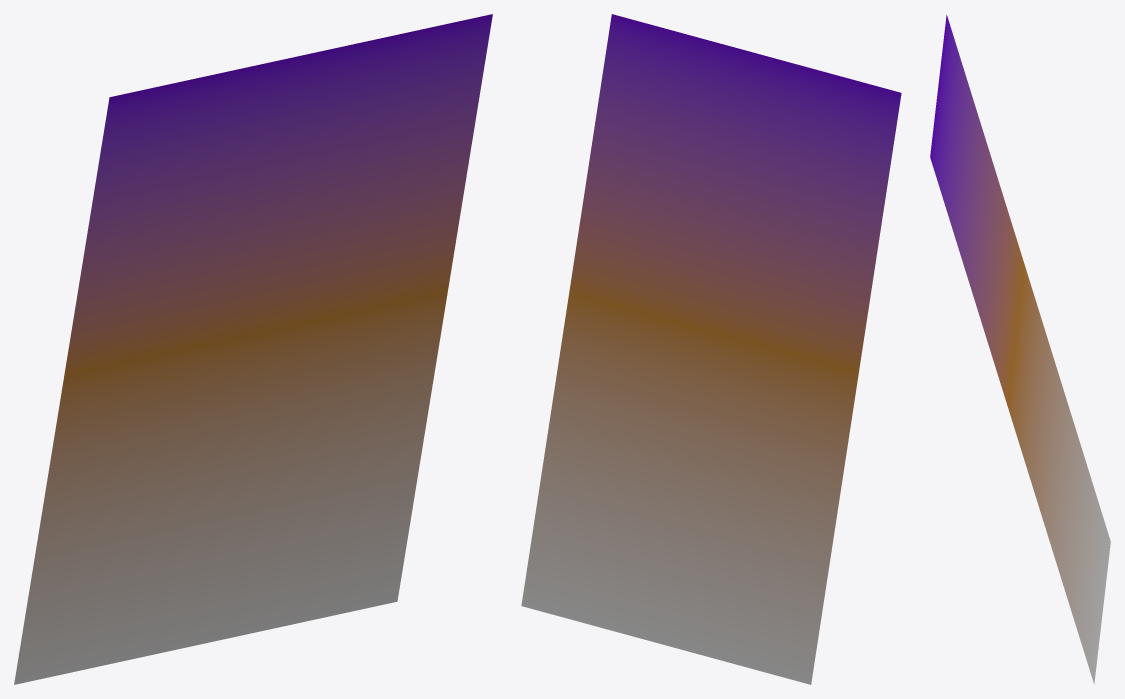
File: Main Camera.fbx
3 views of the same model, side by side, from view 1: azimuth 30°, elevation 25°; view 2: azimuth 150°, elevation 25°; view 3: azimuth 270°, elevation 25° (orthographic). The views are drawn at different scales.
Parts seen in each view (by area): view 1: CameraFixedGradientSky; view 2: CameraFixedGradientSky; view 3: CameraFixedGradientSky.
Part boxes in pixels (bbox=[...]): CameraFixedGradientSky: bbox=[14, 14, 492, 684]; CameraFixedGradientSky: bbox=[521, 14, 901, 684]; CameraFixedGradientSky: bbox=[930, 15, 1110, 683].
Bounding box in the file's own units: 72.85 × 121 × 37.95.
